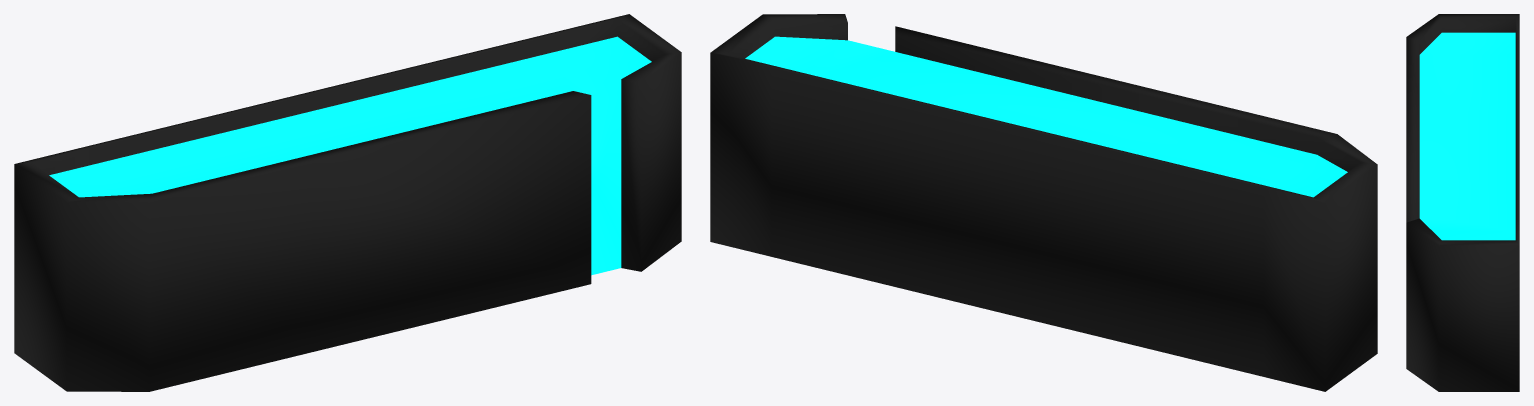
Rendered from BuildFocusedPanel.fbx.
3 views of the same model, side by side, from view 1: azimuth 30°, elevation 25°; view 2: azimuth 150°, elevation 25°; view 3: azimuth 270°, elevation 25° (orthographic). The views are drawn at different scales.
Visible parts, largest first — view 1: Cube; view 2: Cube; view 3: Cube.
Boxes of the visible parts, bbox=[...] form: Cube: bbox=[14, 14, 681, 391]; Cube: bbox=[710, 14, 1377, 391]; Cube: bbox=[1406, 14, 1519, 391].
Size of the model in its own units: 15.46 by 4.54 by 3.2.
